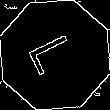L_NE: (26, 30, 84, 80)
